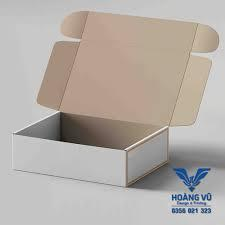box: (12, 12, 220, 188)
